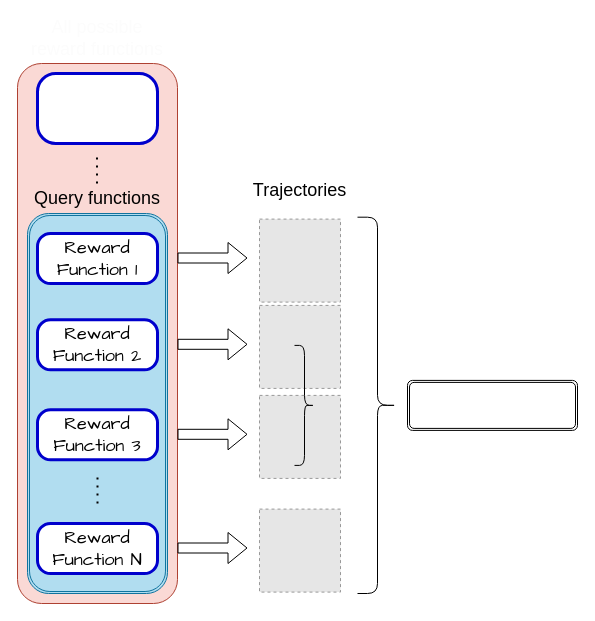
Some shapes in this 595 by 621 pixel diagram are drawn without their labels. Grey dashed boxes stand in for pictures. Each missing label, with the centre of its shape:
"Other possible functions" goes at (x=97, y=108).
"Which is better?" goes at (x=492, y=404).
